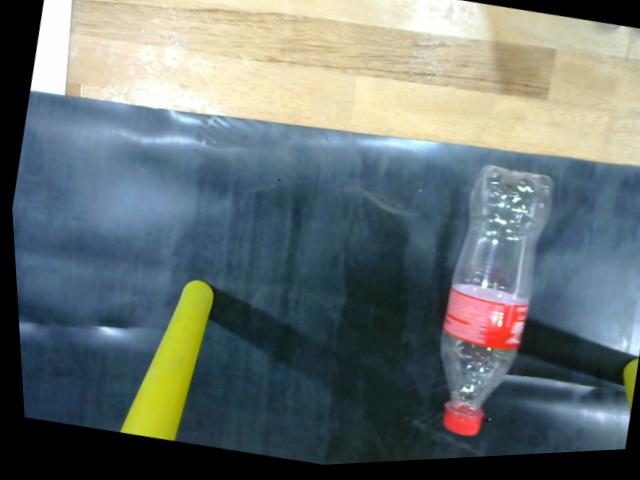bottle: (429, 162, 553, 443)
